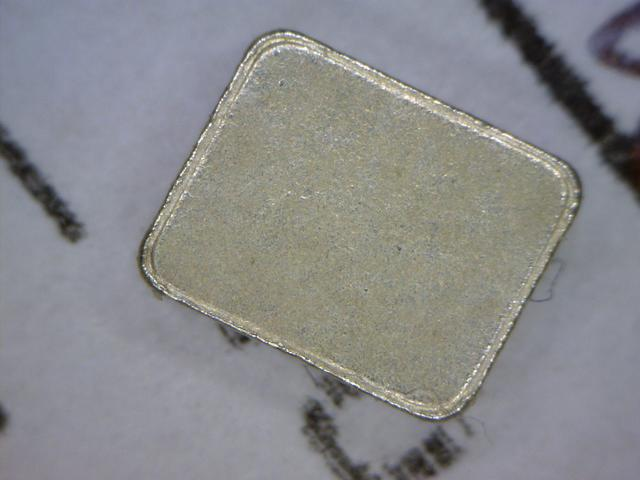nok: (136, 26, 592, 426)
